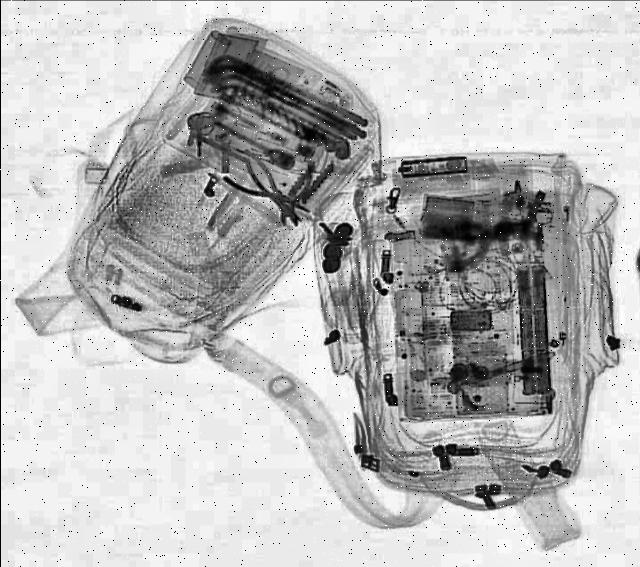Pliers: (216, 148, 322, 232)
